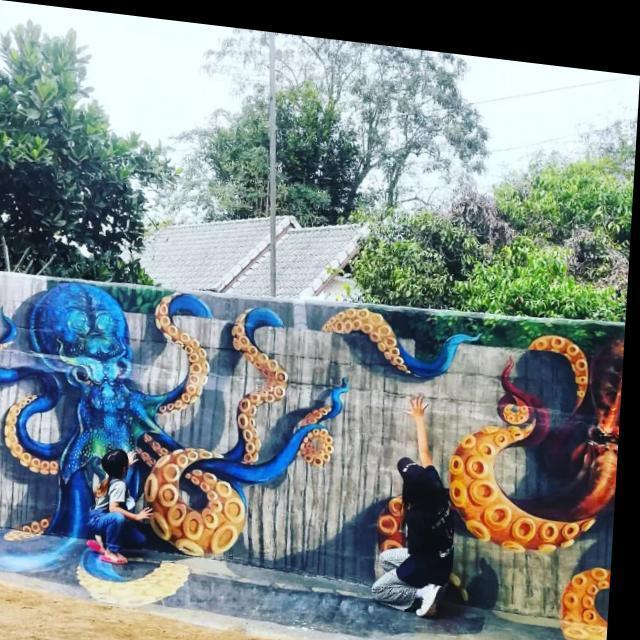-: (0, 266, 628, 640)
